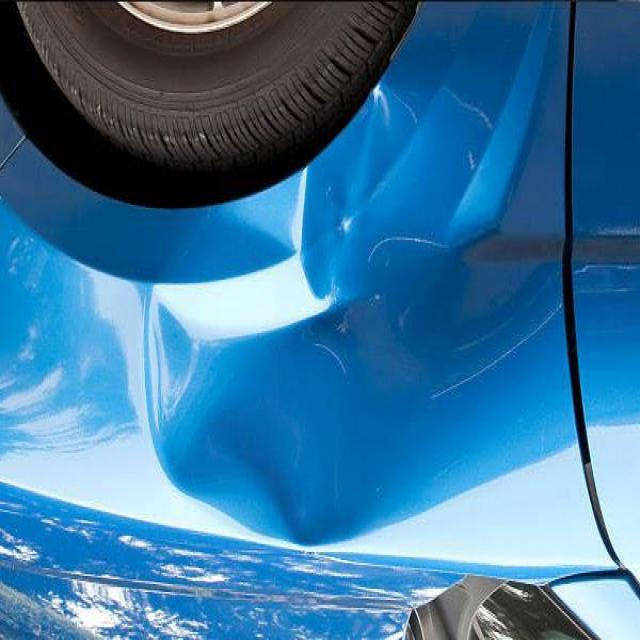dent: (114, 79, 401, 548)
